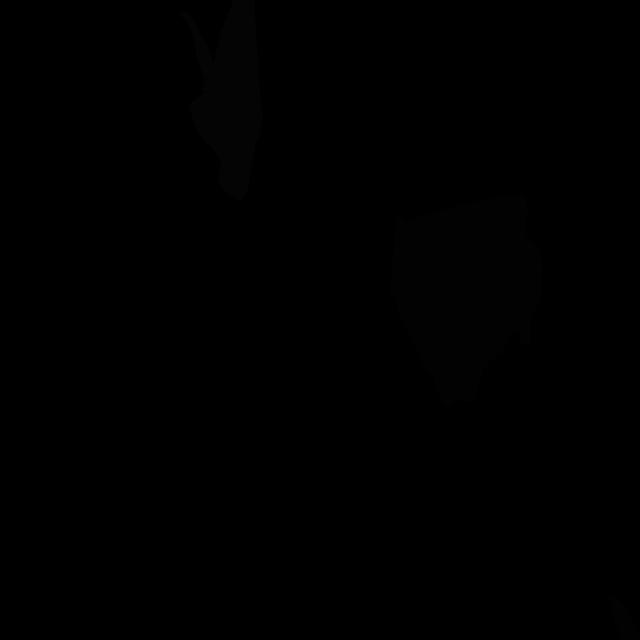cardboard: (390, 193, 543, 406), (610, 595, 640, 640), (396, 212, 406, 228)
soft_plastic: (180, 0, 263, 202)
